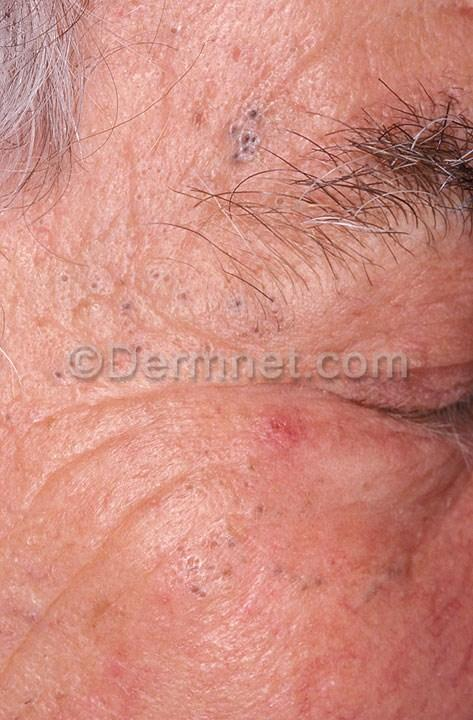Dry-Skin: (3, 331, 270, 625), (298, 426, 456, 574), (326, 286, 473, 387)
